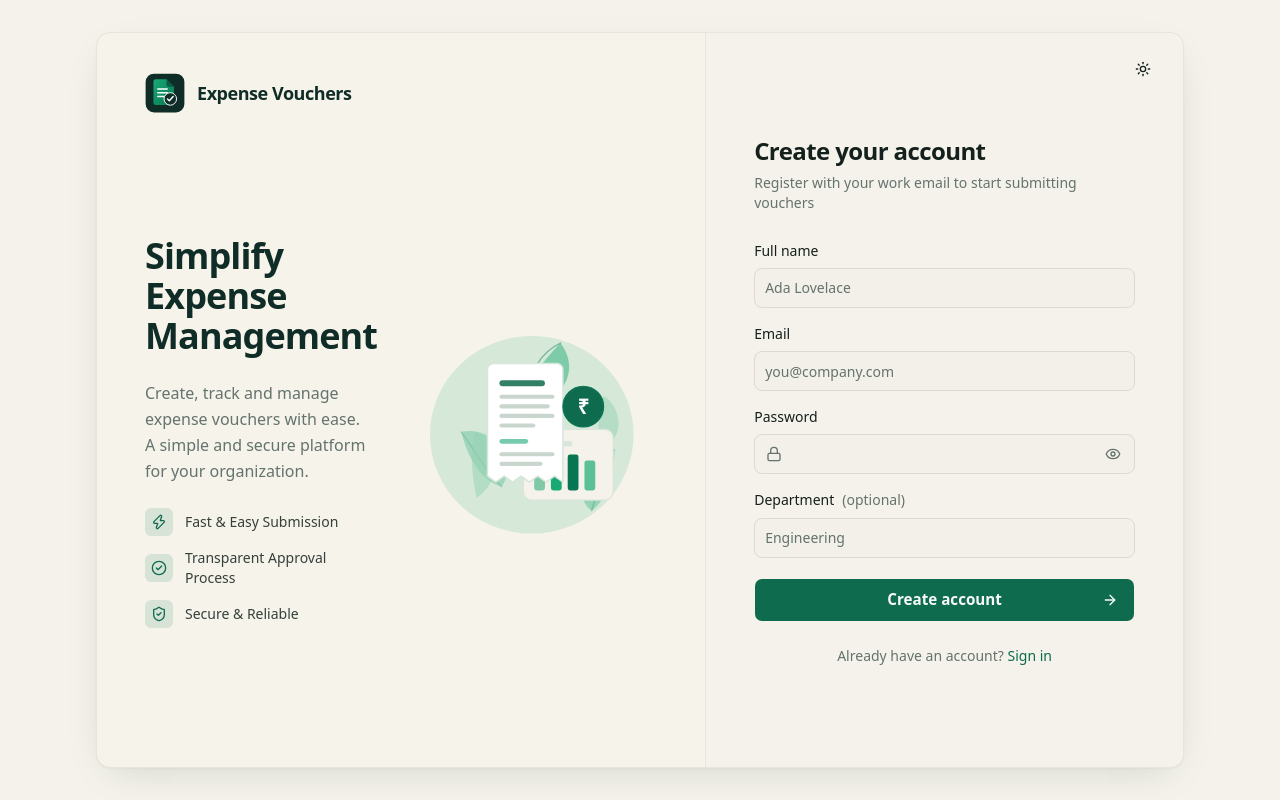
Scenario: signup page › shows the server message for a duplicate email
Expected: the button "Create account" is shown, [754,578,1135,622]
Type "Ada Again" into the field labelled "Full name" at (945,288), box [754,268,1135,308]
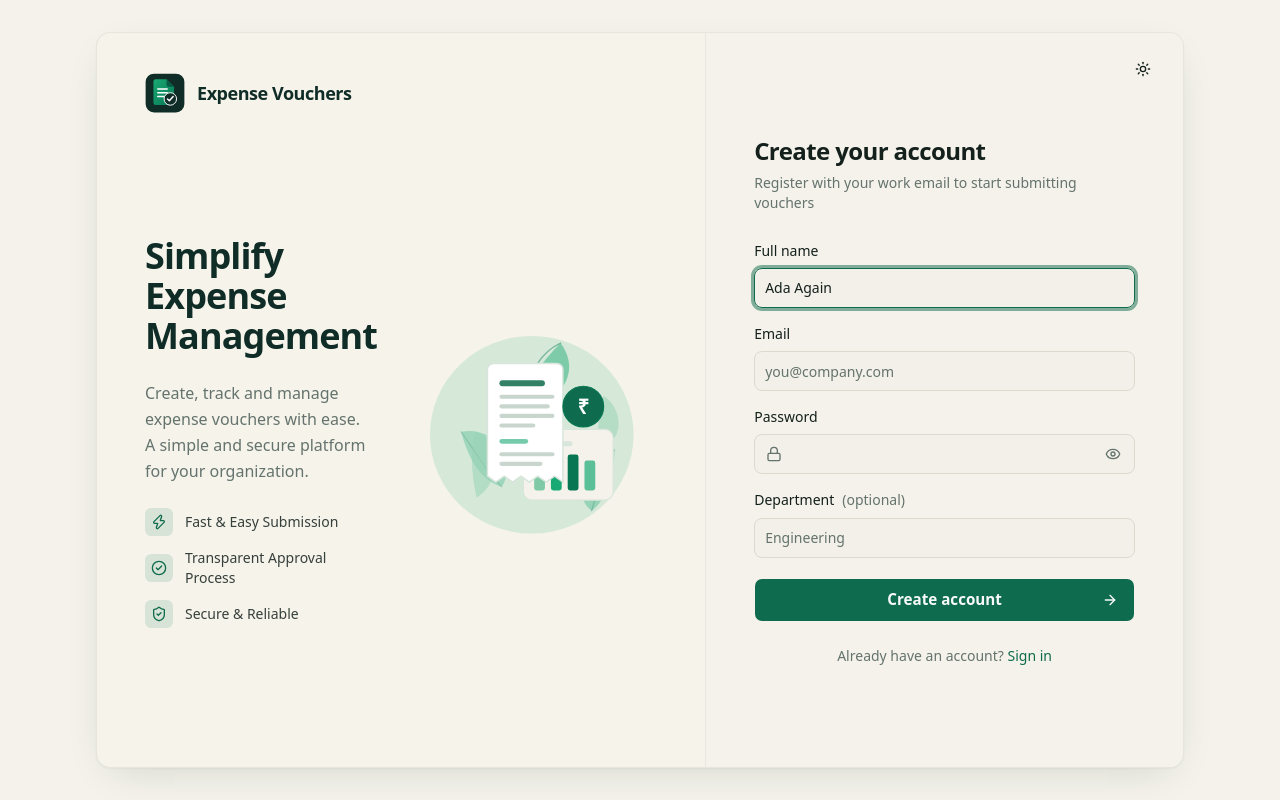
Type "ada@abc.test" into the field labelled "Email" at (945,371), box [754,351,1135,391]
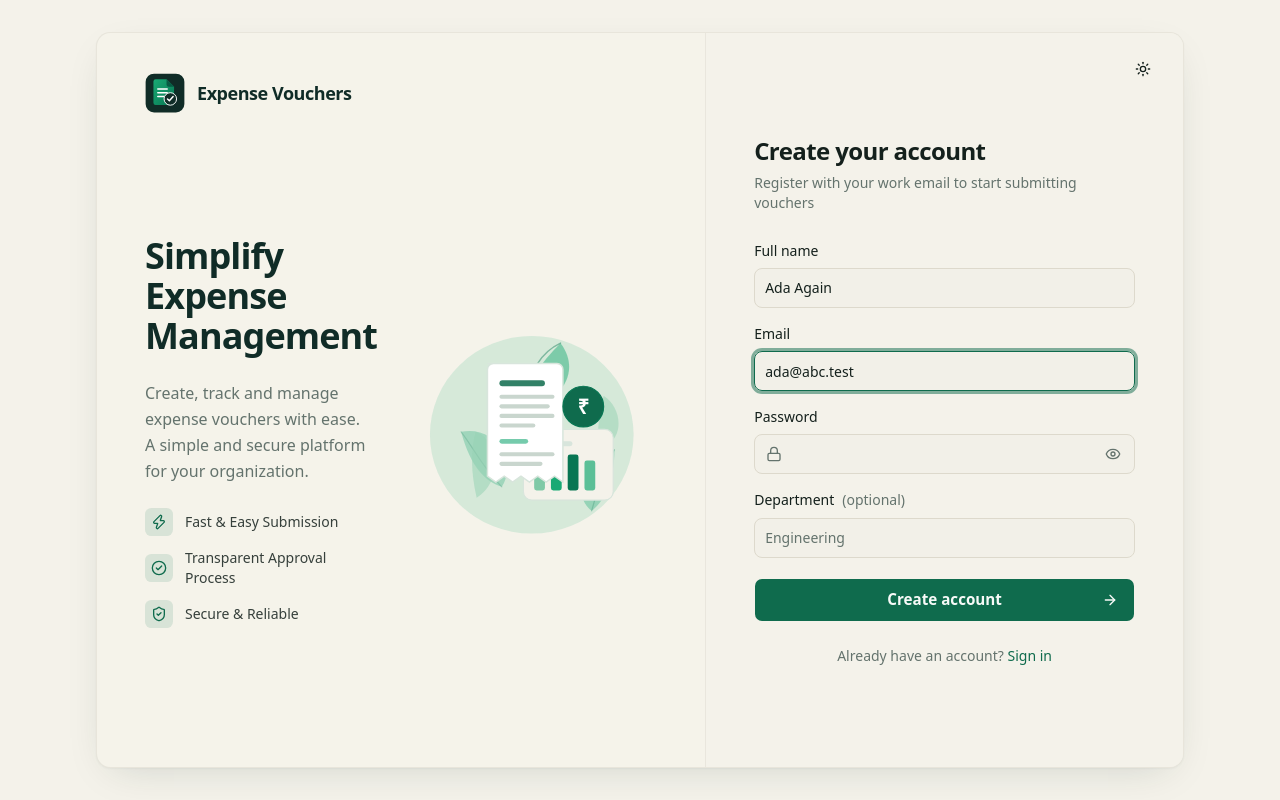
Type "StrongPass123!" into the password field labelled "Password" at (945,454), box [754,434,1135,474]
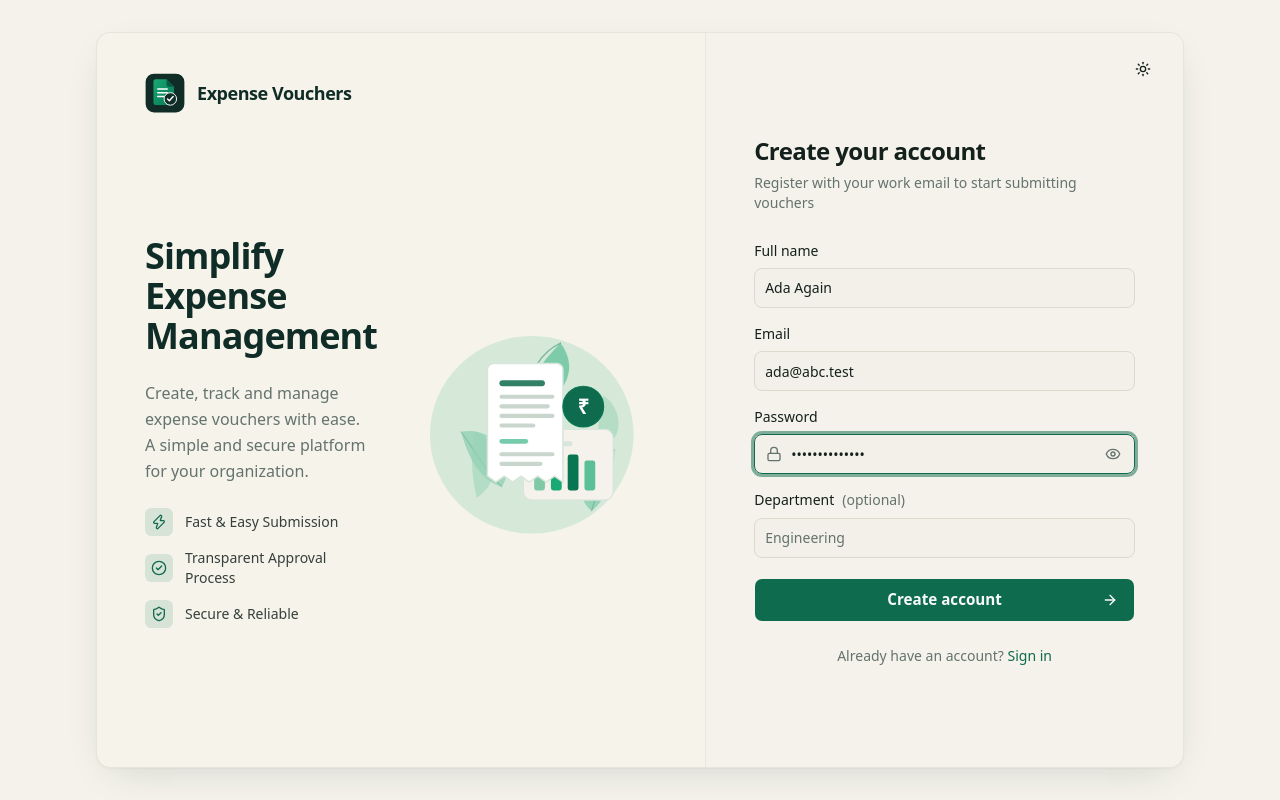
Click the button "Create account" at (945,600), box [754,578,1135,622]
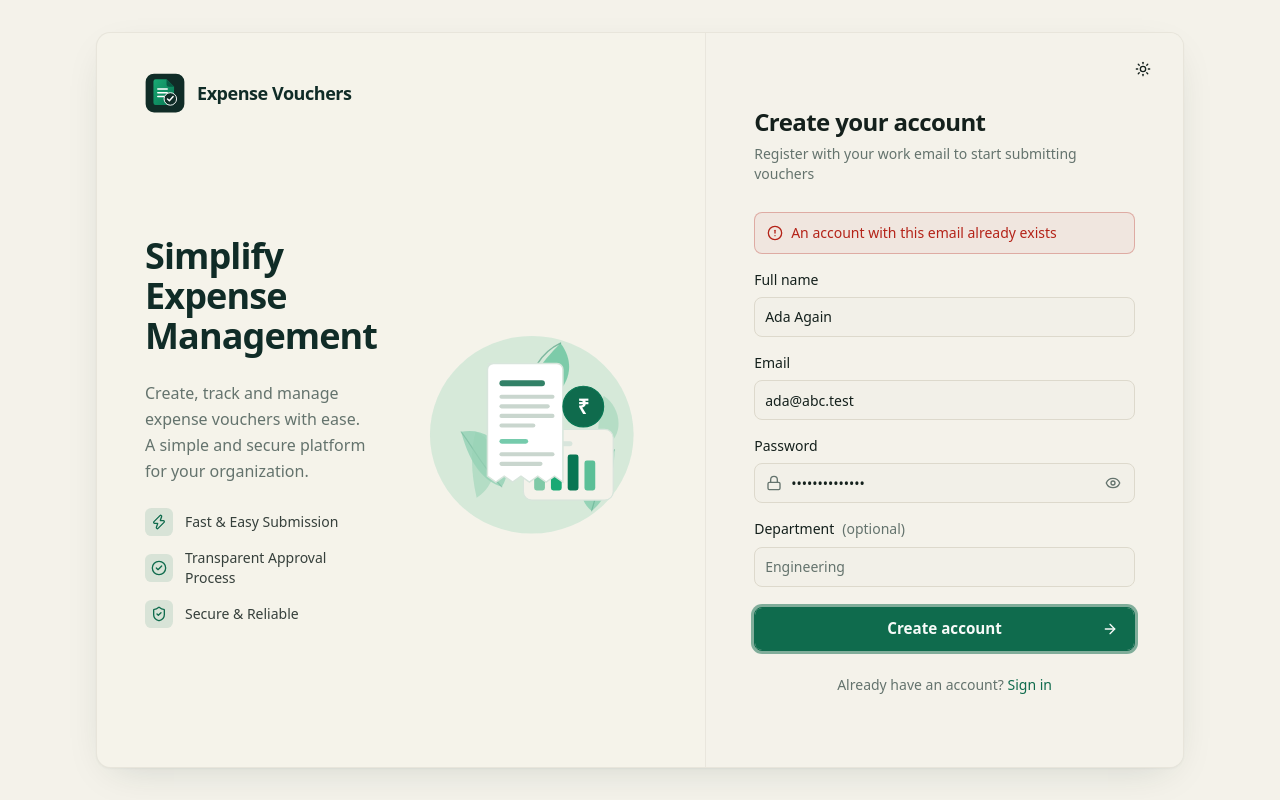
Now the message reads "An account with this email already exists", box [791,222,1057,242]
